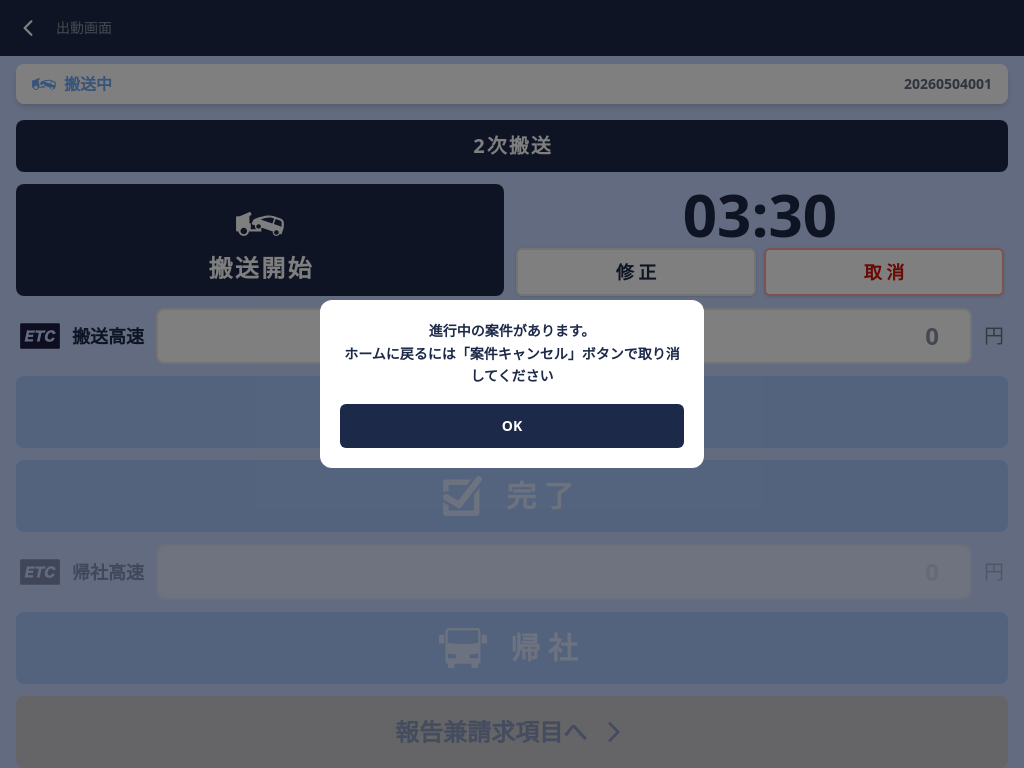
it: SecondaryDispatchClient — 進行中ガードの popstate→モーダル表示 結合 › popstate 発火で BackToHomeConfirmModal が表示され、OK 押下で閉じる
This screenshot has width=1024, height=768.
Check: the text "進行中の案件があります。ホームに戻るには「案件キャンセル」ボタンで取り消してください" is shown, box [340,320,684,388]
Click the button "OK".
click(512, 426)  # box [340,404,684,448]
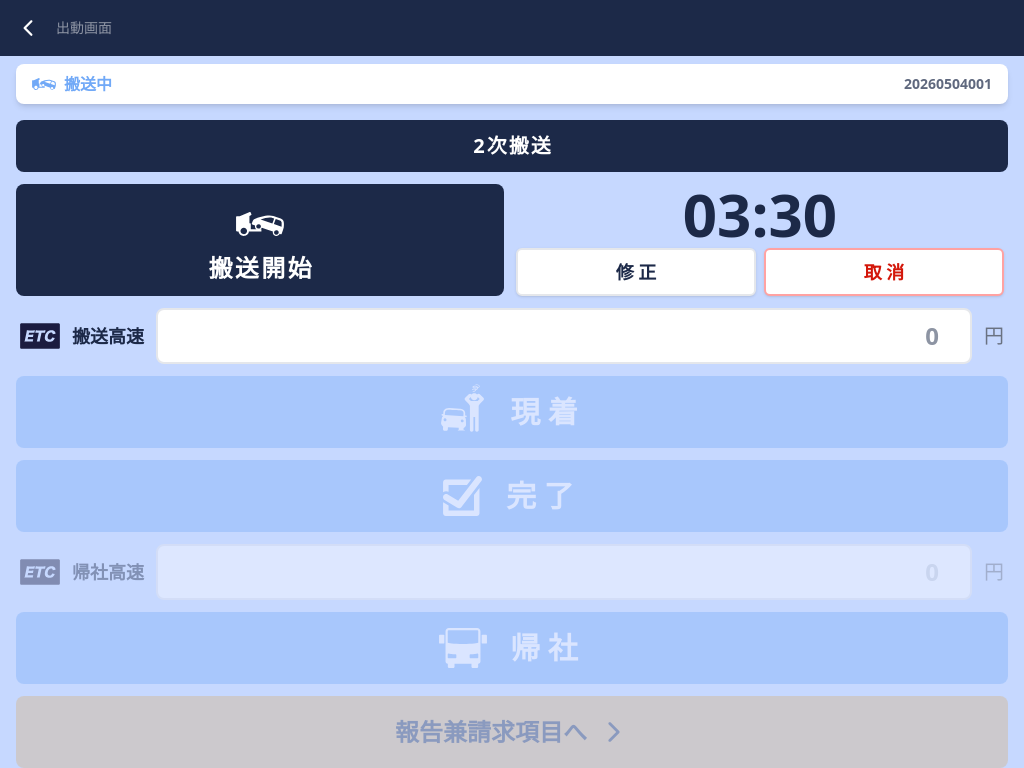
Check: the text "進行中の案件があります" is gone
